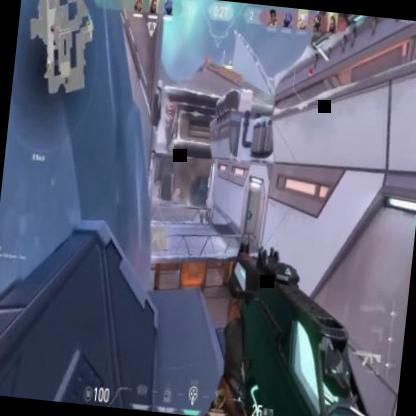enemy: (199, 212, 204, 223)
enemy_head: (201, 212, 203, 216)
